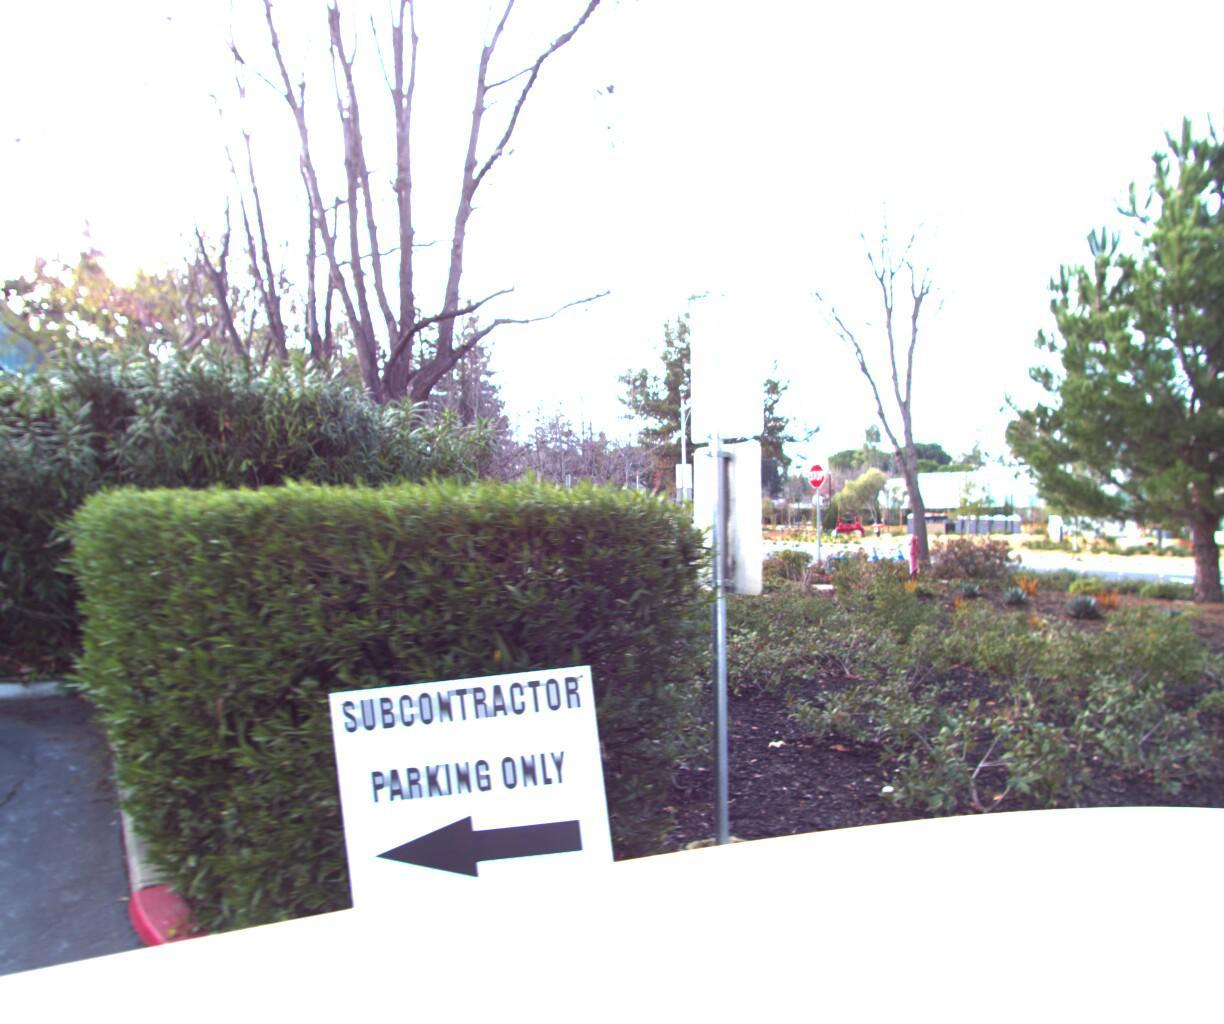car: (648, 509, 715, 543)
